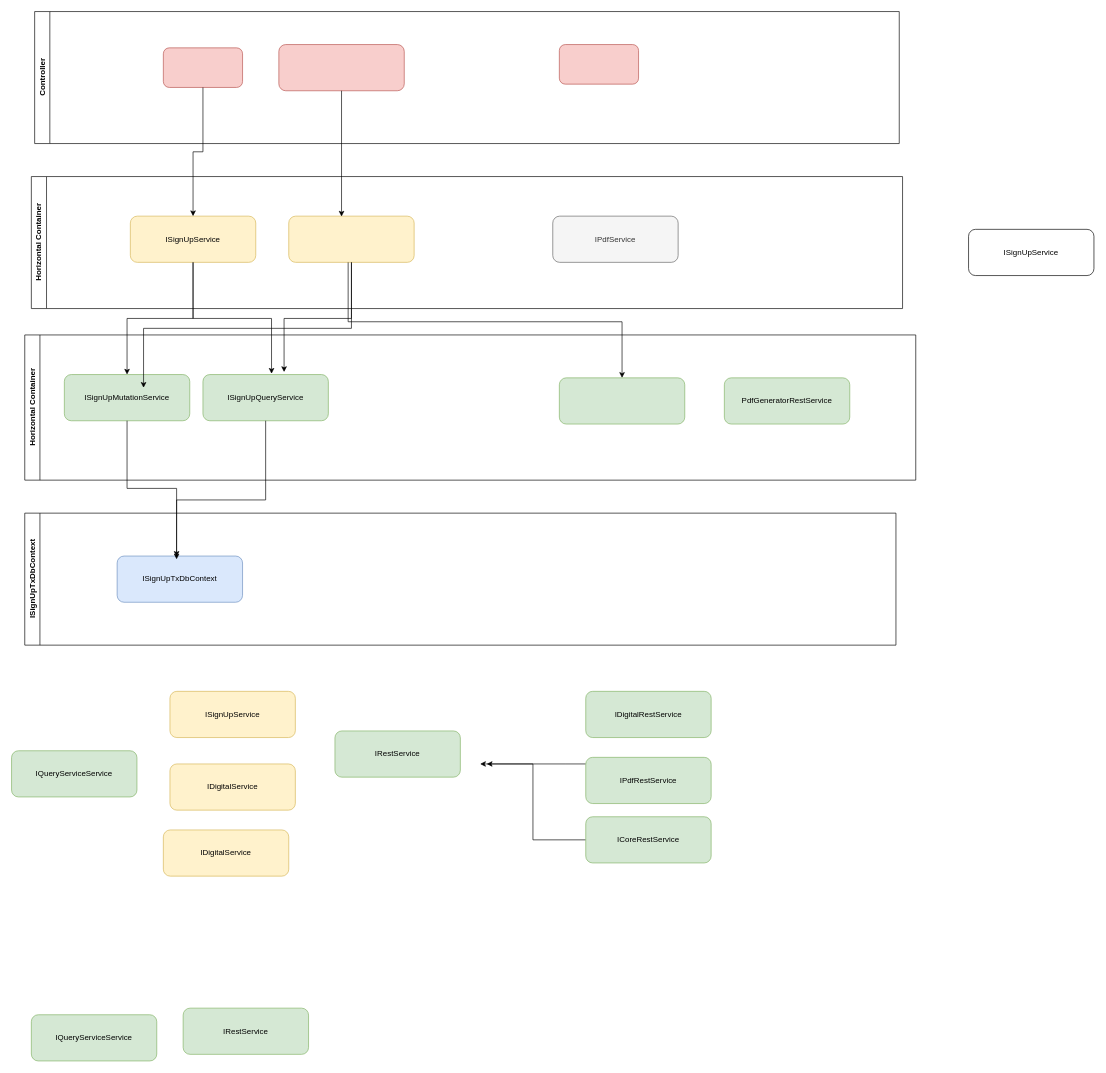
This 1106x1073 diagram has some shape labels left out. The box of each missing label's shape, as (x1, y1, x2, y2) in pixels:
DigitalSignatureController: (278, 44, 404, 91)
IDigitalSignatureRestService: (559, 377, 685, 424)
IDigitalSignatureService: (288, 215, 414, 262)
PdfController: (559, 44, 639, 84)
SignupController: (163, 47, 243, 87)
